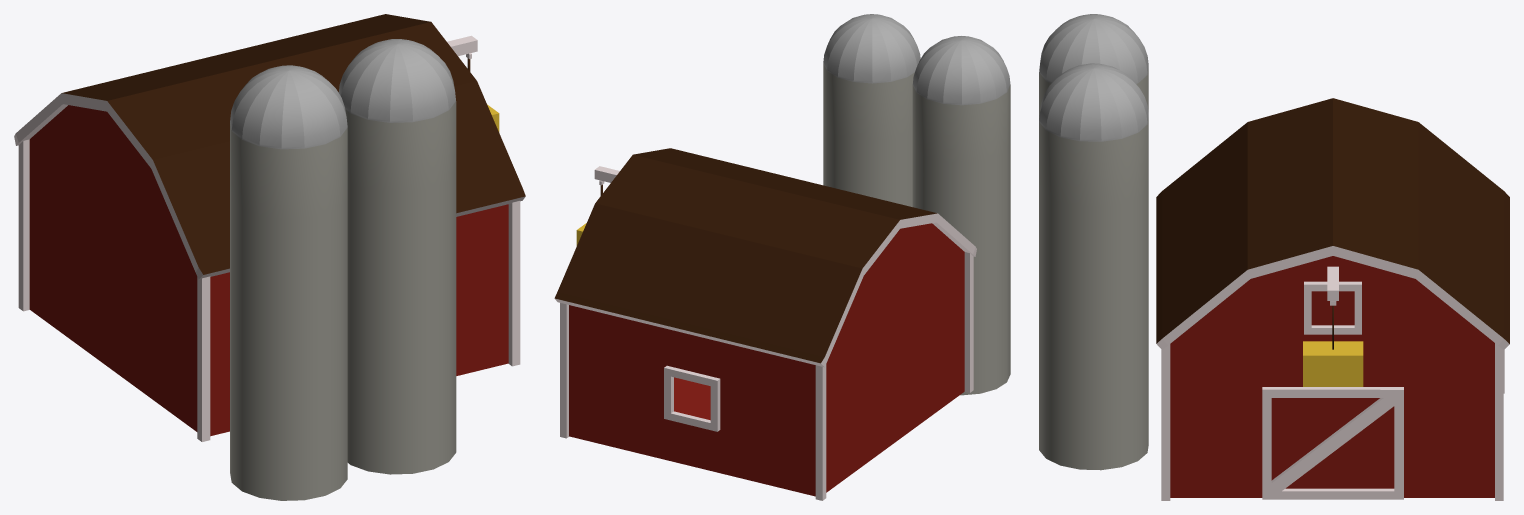
Rendered from barn.glb.
The picture shows the model from 3 angles, left to right: view 1: azimuth 30°, elevation 25°; view 2: azimuth 150°, elevation 25°; view 3: azimuth 270°, elevation 25°; orthographic projection. The views are drawn at different scales.
Visible parts, largest first — view 1: Barn, Silo.2, Silo.1; view 2: Barn, Silo.2, Silo.1; view 3: Barn, Silo.1, Silo.2.
Part boxes in pixels (x1,y1,x2,y2): Barn: [14, 14, 525, 441]; Silo.2: [230, 65, 347, 500]; Silo.1: [338, 39, 456, 474]; Barn: [554, 148, 976, 500]; Silo.2: [912, 36, 1010, 395]; Silo.1: [823, 14, 920, 206]; Barn: [1156, 98, 1509, 500]; Silo.1: [1039, 63, 1148, 470]; Silo.2: [1039, 14, 1148, 120].
Size of the model in its own units: 12.29 by 12.66 by 14.27.
